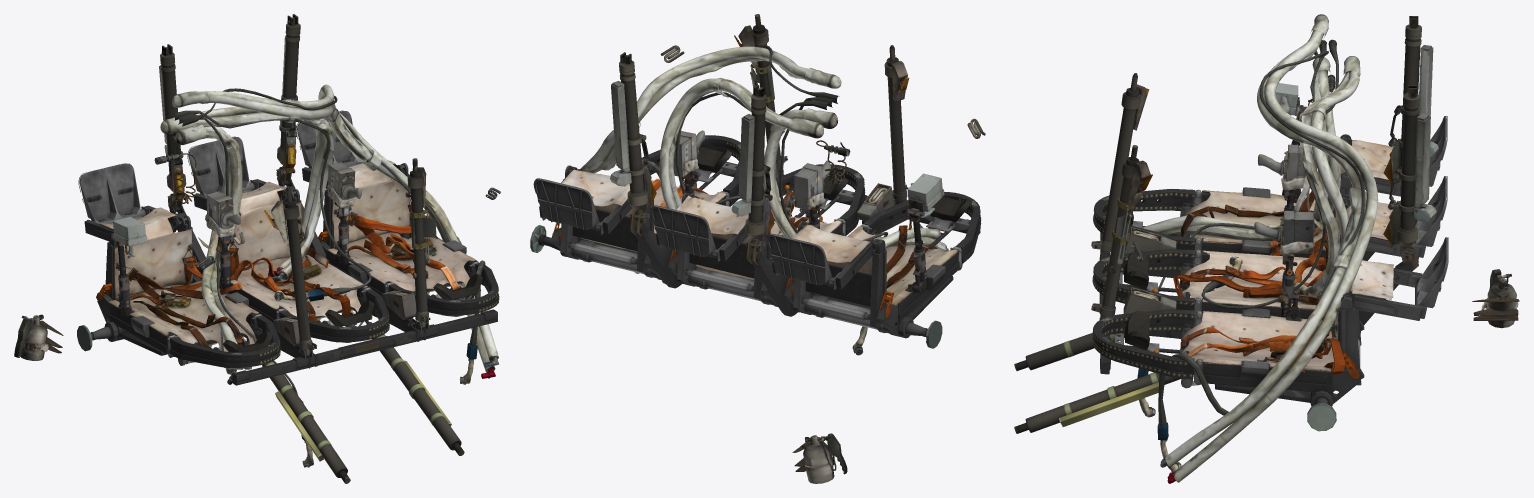
The model's file is interior-seats.glb.
The picture shows the model from 3 angles, left to right: view 1: azimuth 30°, elevation 25°; view 2: azimuth 150°, elevation 25°; view 3: azimuth 270°, elevation 25°; orthographic projection. The views are drawn at different scales.
Size of the model in its own units: 214 by 187 by 222.
Materials: 1 (1 with a texture image).
